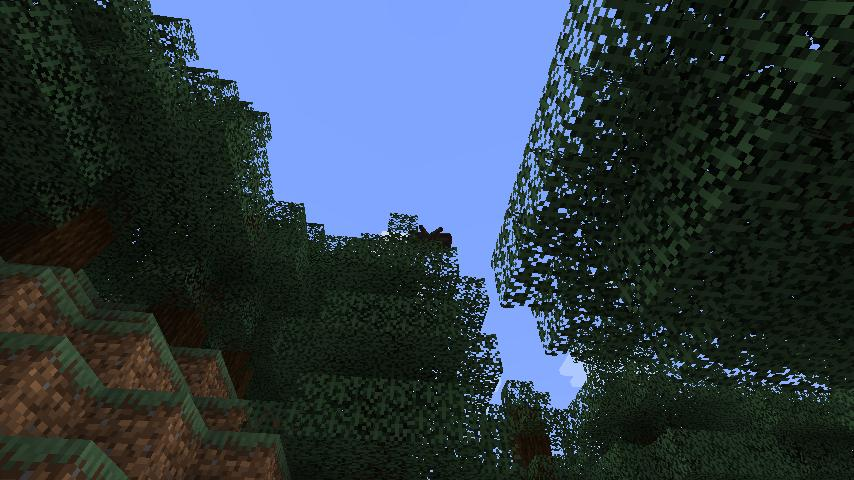spider: (409, 225, 453, 250)
